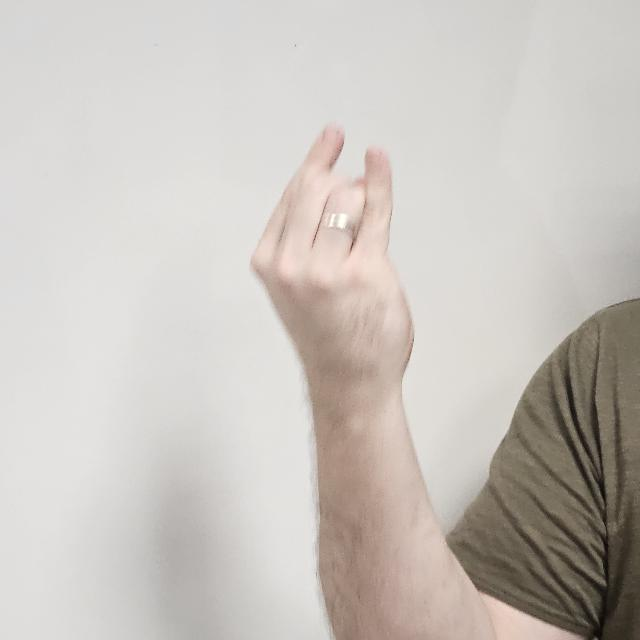L: (250, 96, 422, 444)
